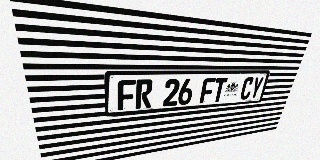2: (163, 79, 180, 107)
6: (177, 78, 194, 105)
C: (239, 77, 255, 100)
F: (118, 80, 136, 110), (199, 78, 216, 103)
R: (135, 79, 153, 109)
T: (211, 78, 228, 102)
Y: (249, 77, 264, 99)
